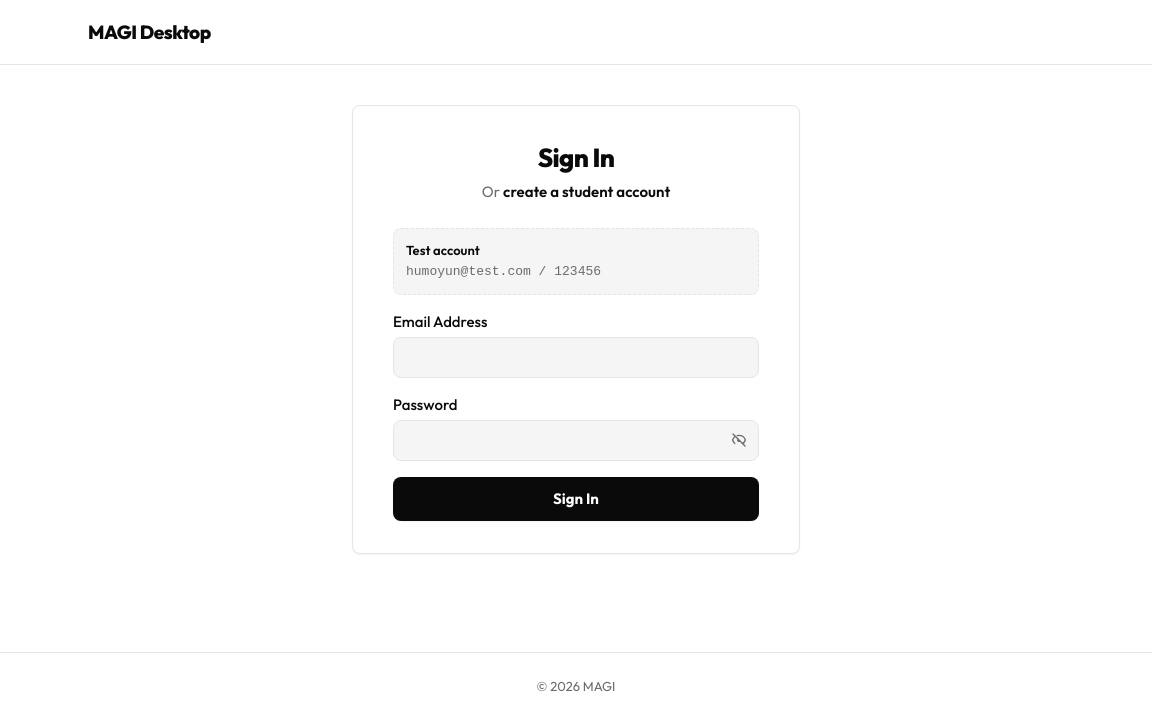
App navigation › shows a graded exam's score and feedback on the Grades page
Type "s@example.com" into the field labelled "Email Address". click: {"x": 576, "y": 357}
box: top-left (393, 337), bottom-right (759, 378)
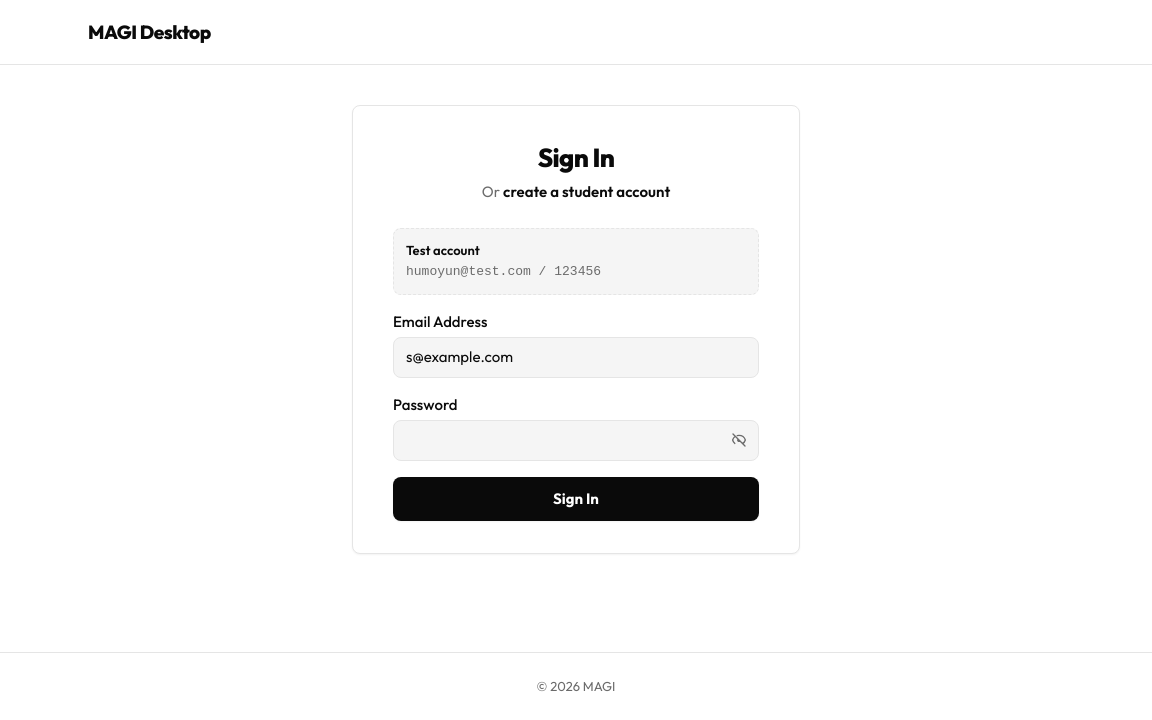
Type "Test1234!" into the password field labelled "Password". click: {"x": 576, "y": 440}
box: top-left (393, 420), bottom-right (759, 460)
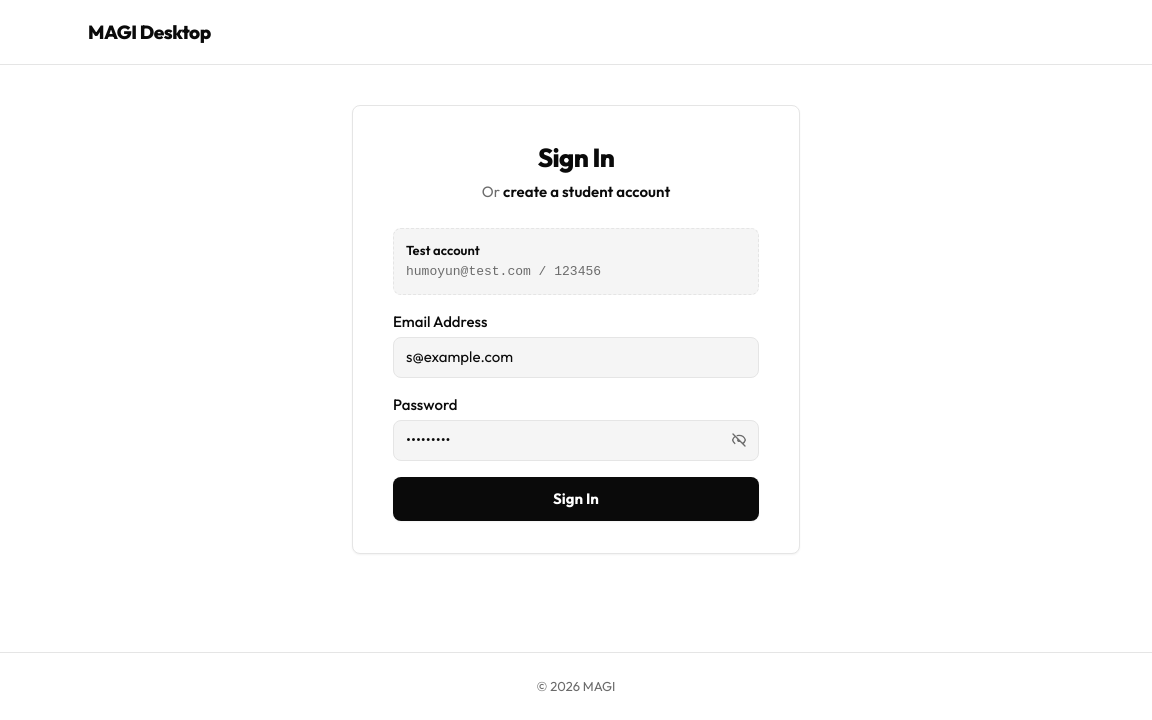
Click the button "Sign In". click: {"x": 576, "y": 499}
box: top-left (393, 476), bottom-right (759, 521)
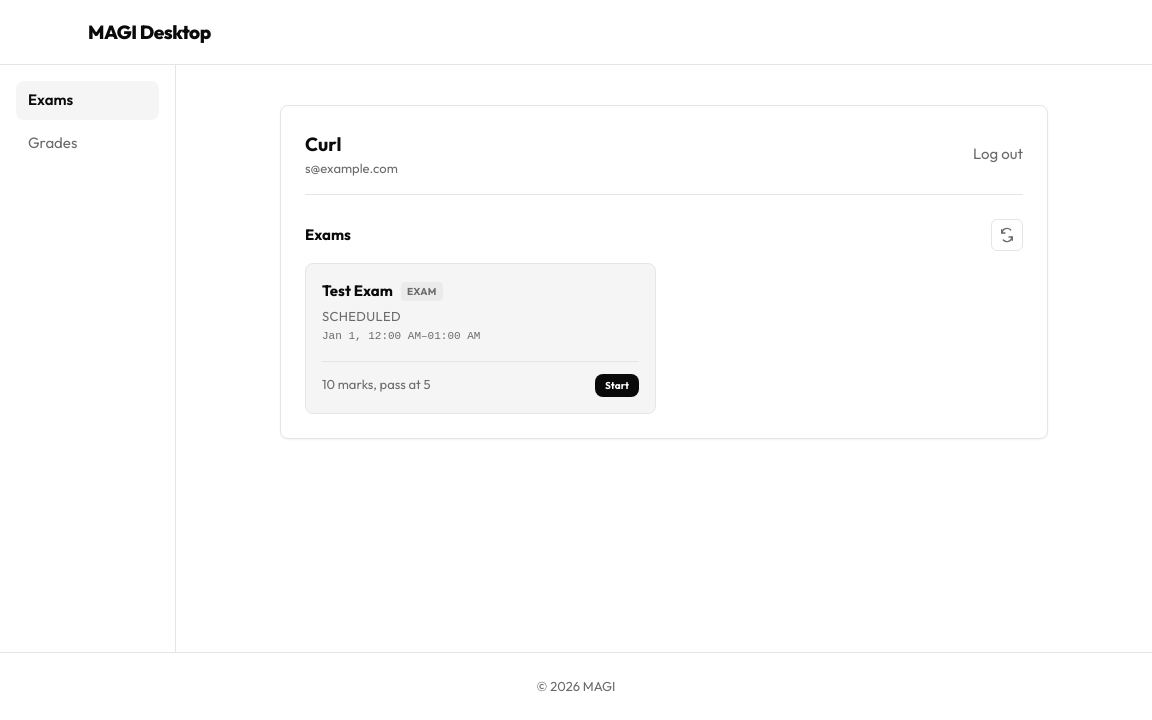
Click the button "Grades". click: {"x": 88, "y": 143}
box: top-left (16, 124), bottom-right (159, 162)
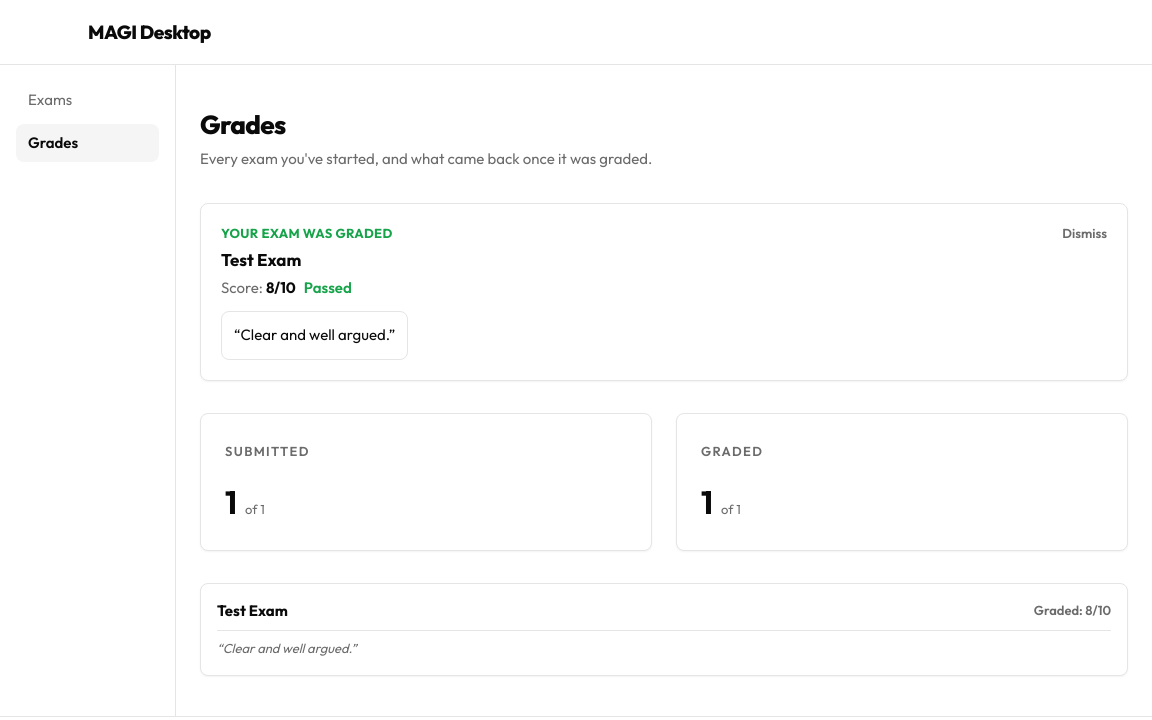
Check: the text "Your exam was graded" is shown, box top-left (221, 224), bottom-right (408, 243)
Check: the text "8/10" is shown, box top-left (266, 278), bottom-right (296, 296)
Check: the text "“Clear and well argued.”" below "Score:" is shown, box top-left (240, 325), bottom-right (389, 344)
